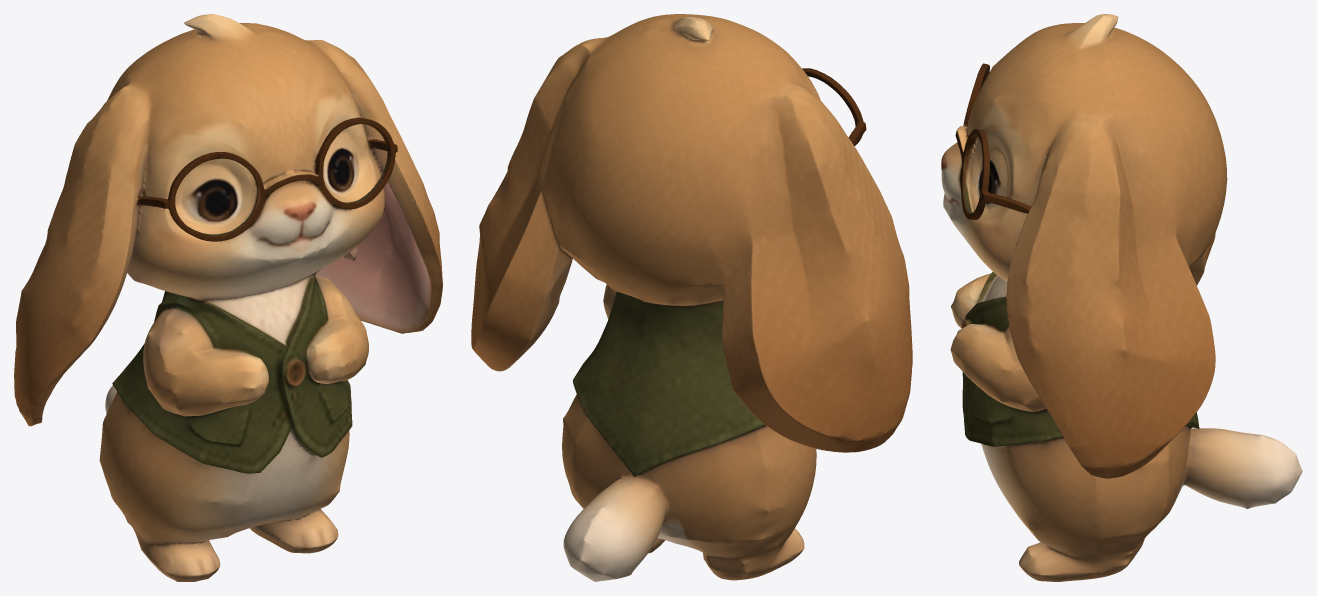
The model's file is honey.glb.
3 renders of one model, left to right at view 1: azimuth 30°, elevation 25°; view 2: azimuth 150°, elevation 25°; view 3: azimuth 270°, elevation 25°, orthographic. The views are drawn at different scales.
Visible parts, largest first — view 1: mesh_node; view 2: mesh_node; view 3: mesh_node.
Part boxes in pixels (x1,y1,x2,y2): mesh_node: [14, 14, 442, 581]; mesh_node: [471, 14, 912, 581]; mesh_node: [941, 14, 1302, 581].
Bounding box in the file's own units: 1.35 × 1.68 × 1.05.
1 material, 1 textured.
